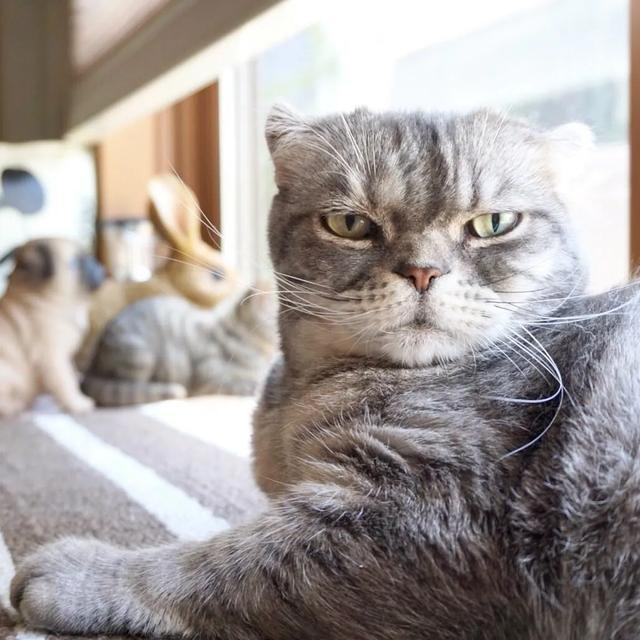cat: (9, 103, 640, 640), (88, 280, 291, 406)
